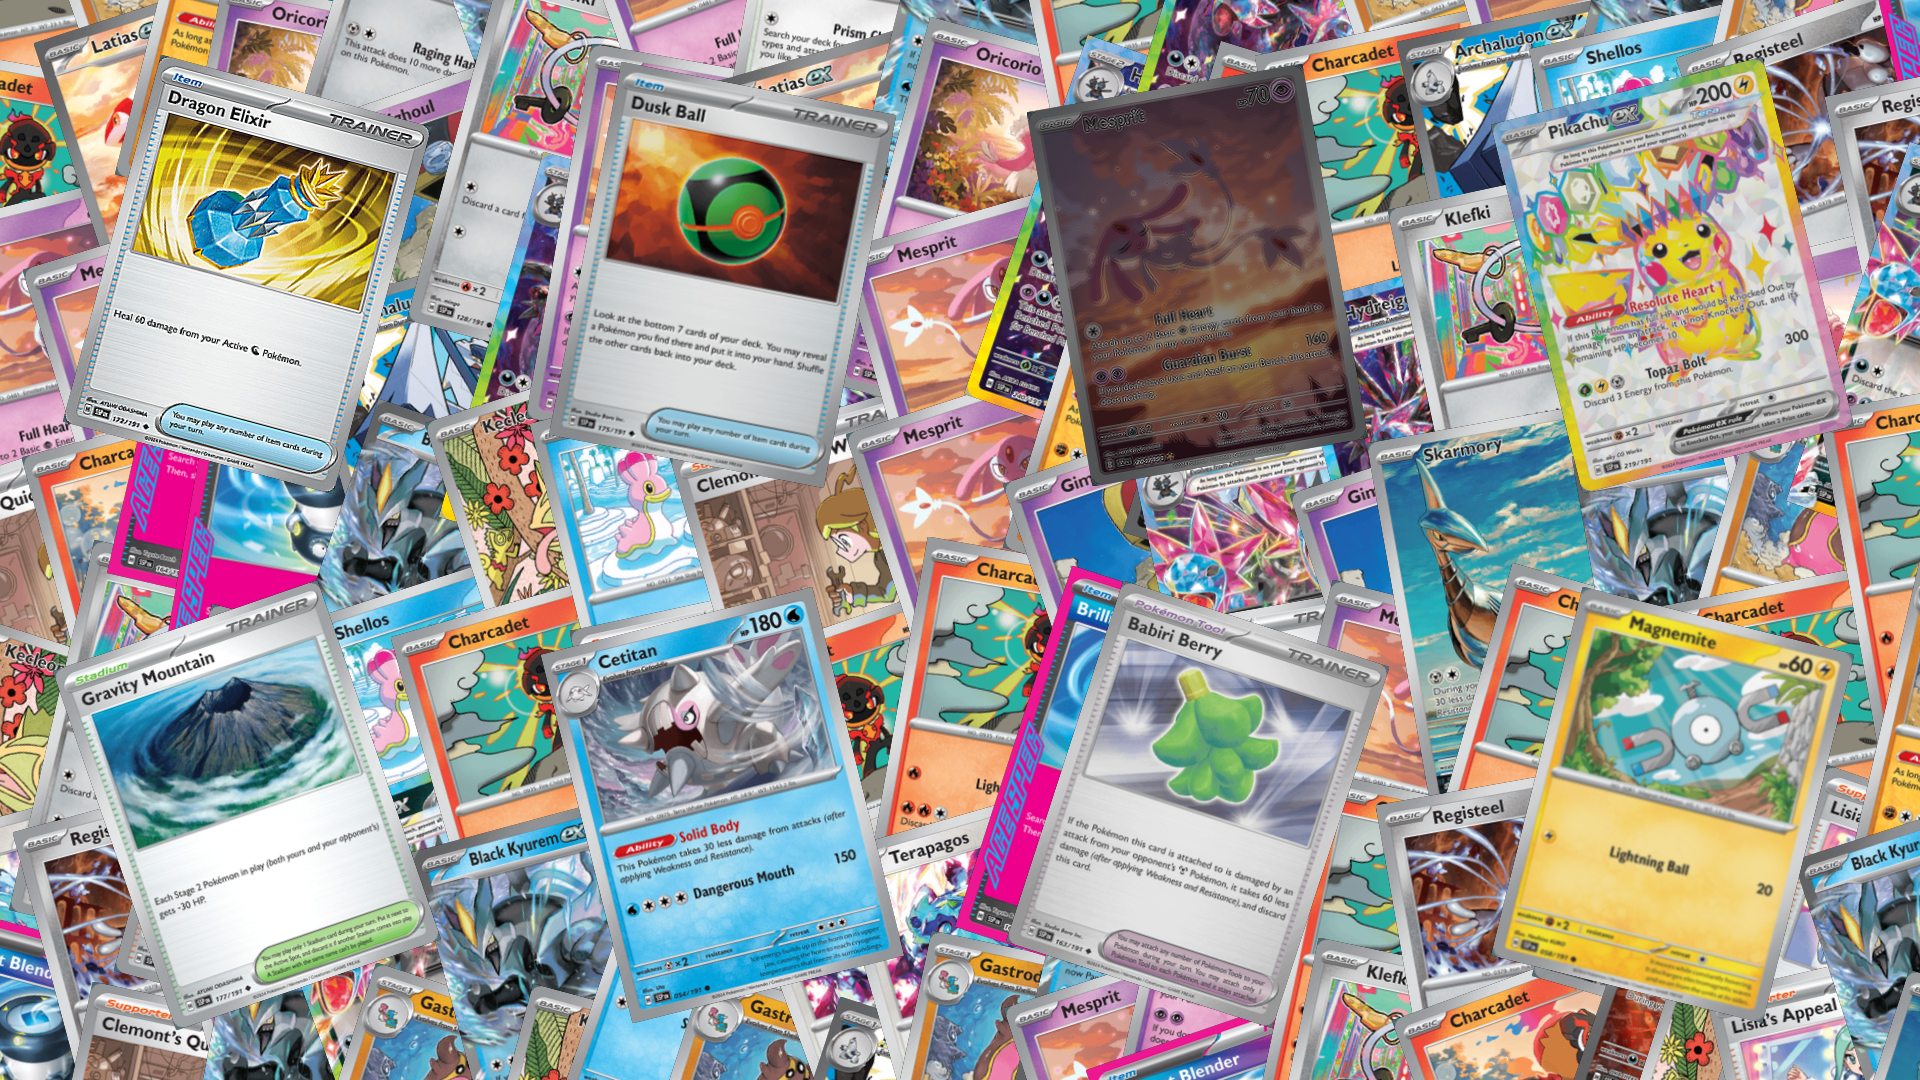Babiri_Berry: (1005, 580, 1389, 1029)
Cetitan: (541, 585, 905, 1023)
Dragon_Elixir: (62, 54, 431, 495)
Dusk_Ball: (549, 61, 895, 488)
Gravity_Mountain: (51, 579, 440, 1030)
Magnemite: (1490, 585, 1854, 1023)
Mesprit: (1026, 63, 1367, 487)
Pikachu_ex: (1490, 55, 1854, 493)
